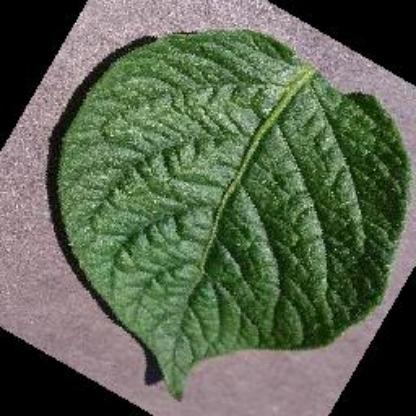Healthy-plant: (60, 27, 410, 415)
